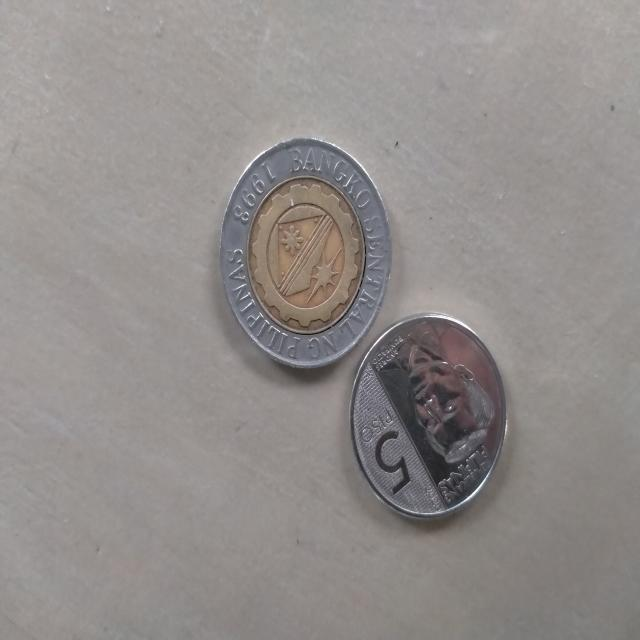10_Old_Back: (220, 138, 390, 360)
5_New_Front: (354, 396, 418, 506)
